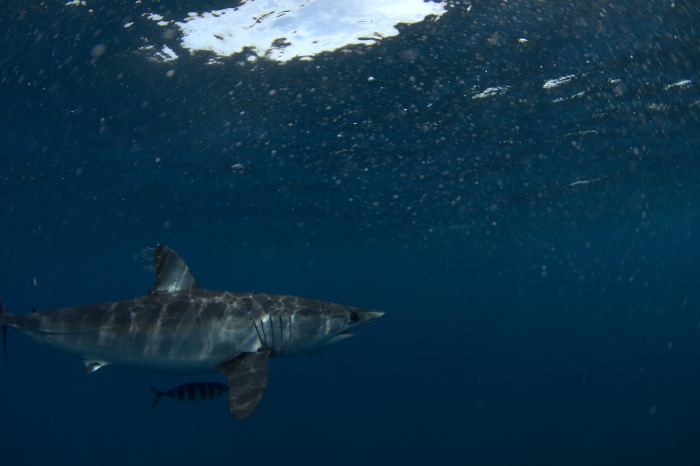Mako: (1, 238, 399, 421)
